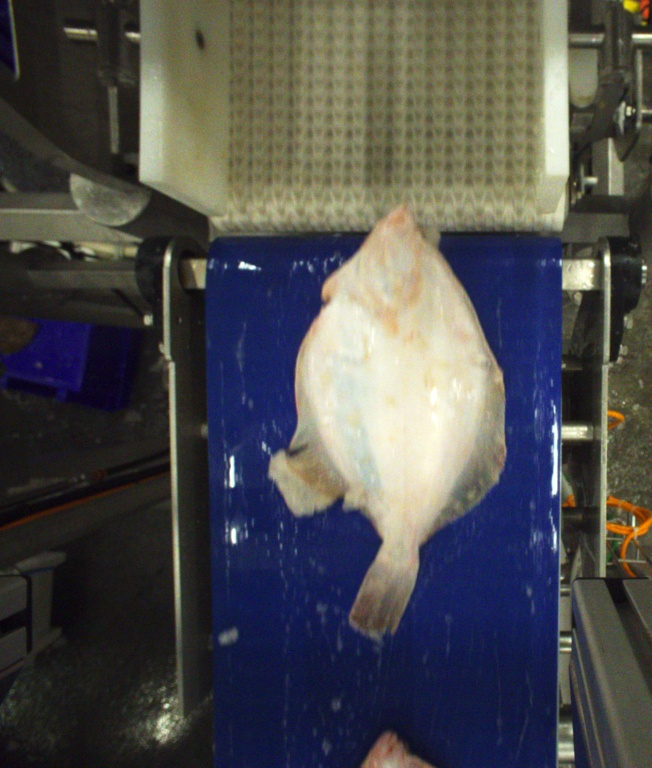PLE: (291, 206, 508, 630)
